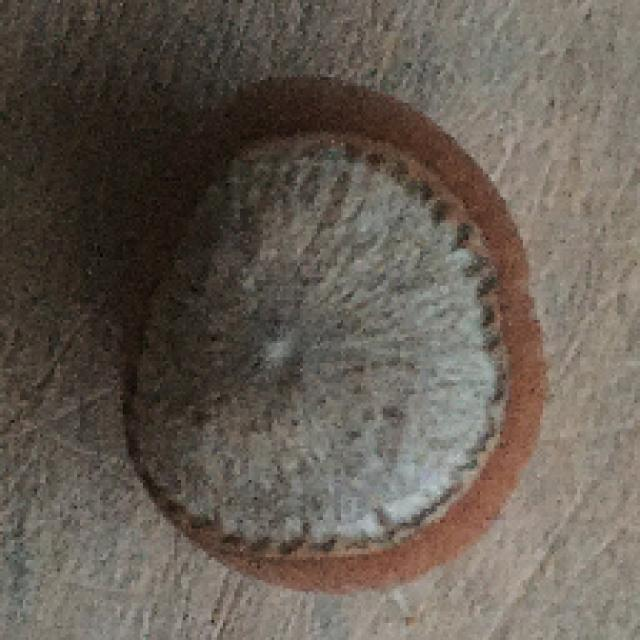qualityHazelnut: (116, 73, 554, 594)
